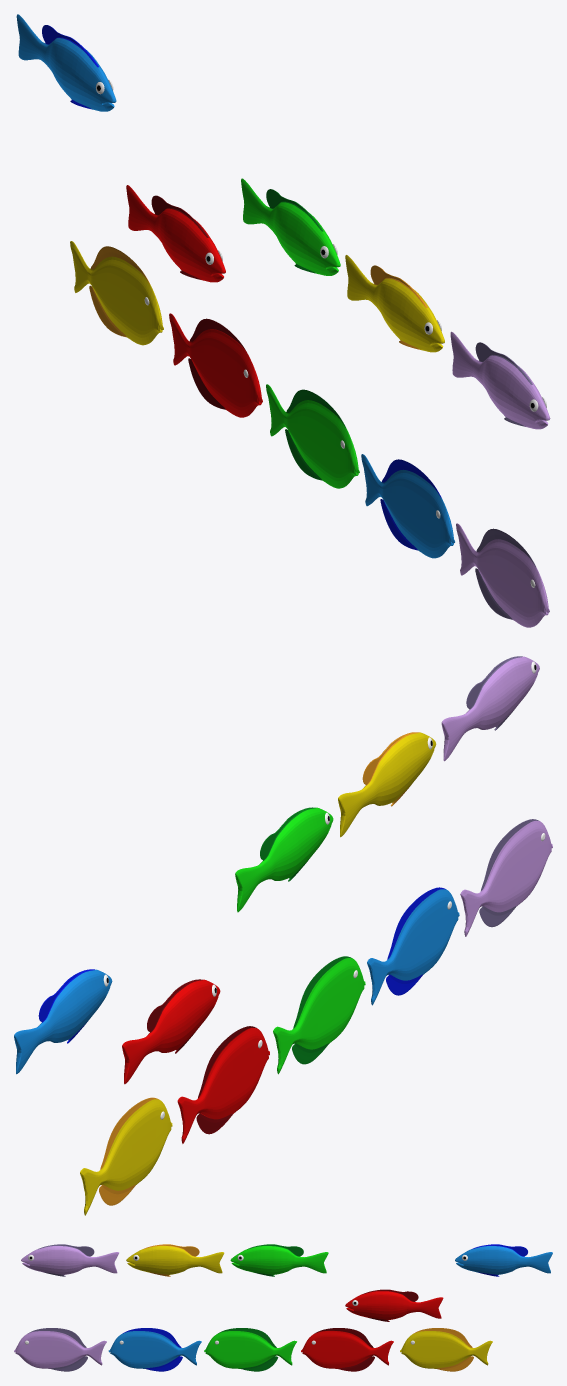
File: FishModels.fbx
3 renders of one model, top to bottom at view 1: azimuth 30°, elevation 25°; view 2: azimuth 150°, elevation 25°; view 3: azimuth 270°, elevation 25°, orthographic. The views are drawn at different scales.
Visible parts, largest first — view 1: LargeRedFish, LargePurpleFish, LargeGreenFish, LargeYellowFish, LargeBlueFish, SmallRedFish, SmallPurpleFish, SmallBlueFish, SmallYellowFish, SmallGreenFish; view 2: LargeYellowFish, LargeRedFish, LargeBlueFish, LargePurpleFish, LargeGreenFish, SmallPurpleFish, SmallGreenFish, SmallRedFish, SmallBlueFish, SmallYellowFish; view 3: LargeGreenFish, LargeBlueFish, LargePurpleFish, LargeYellowFish, LargeRedFish, SmallRedFish, SmallYellowFish, SmallGreenFish, SmallPurpleFish, SmallBlueFish.
Boxes of the visible parts, x1=… form: LargeRedFish: x1=169, y1=313, x2=262, y2=417; LargePurpleFish: x1=456, y1=523, x2=549, y2=627; LargeGreenFish: x1=266, y1=384, x2=359, y2=488; LargeYellowFish: x1=70, y1=241, x2=163, y2=345; LargeBlueFish: x1=361, y1=454, x2=454, y2=558; SmallRedFish: x1=126, y1=185, x2=225, y2=282; SmallPurpleFish: x1=450, y1=331, x2=550, y2=429; SmallBlueFish: x1=16, y1=14, x2=116, y2=111; SmallYellowFish: x1=345, y1=255, x2=444, y2=352; SmallGreenFish: x1=241, y1=178, x2=340, y2=275; LargeYellowFish: x1=80, y1=1097, x2=172, y2=1215; LargeRedFish: x1=177, y1=1026, x2=269, y2=1143; LargeBlueFish: x1=367, y1=887, x2=459, y2=1005; LargePurpleFish: x1=460, y1=819, x2=552, y2=936; LargeGreenFish: x1=273, y1=956, x2=365, y2=1074; SmallPurpleFish: x1=441, y1=656, x2=539, y2=761; SmallGreenFish: x1=235, y1=807, x2=333, y2=912; SmallRedFish: x1=122, y1=979, x2=220, y2=1084; SmallBlueFish: x1=14, y1=969, x2=112, y2=1074; SmallYellowFish: x1=338, y1=732, x2=436, y2=837; LargeGreenFish: x1=204, y1=1328, x2=296, y2=1371; LargeBlueFish: x1=108, y1=1328, x2=201, y2=1371; LargePurpleFish: x1=14, y1=1328, x2=106, y2=1371; LargeYellowFish: x1=400, y1=1328, x2=492, y2=1371; LargeRedFish: x1=301, y1=1328, x2=393, y2=1371; SmallRedFish: x1=345, y1=1289, x2=443, y2=1321; SmallYellowFish: x1=126, y1=1244, x2=224, y2=1276; SmallGreenFish: x1=230, y1=1244, x2=328, y2=1276; SmallPurpleFish: x1=21, y1=1244, x2=118, y2=1276; SmallBlueFish: x1=455, y1=1244, x2=552, y2=1276.
Size of the model in its own units: 134 by 1560 by 5911.
